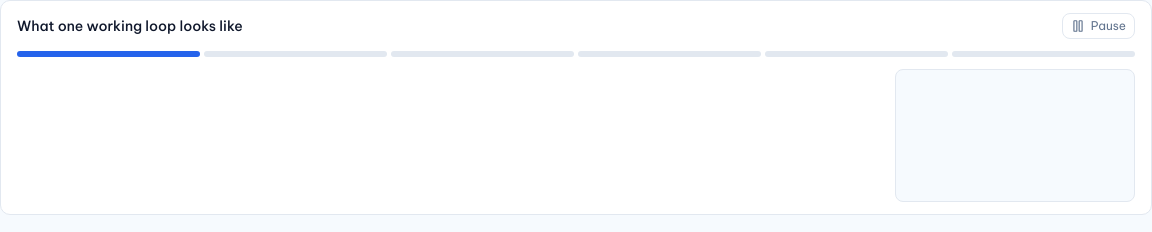
ResearchFlowAnimation › jumps straight to a stage by button, and that stops autoplay
This screenshot has width=1152, height=232.
Click the button named "Stage 5: Five judges push back" at (856, 54), box 765,51 -> 948,57
Wait 8000 ms
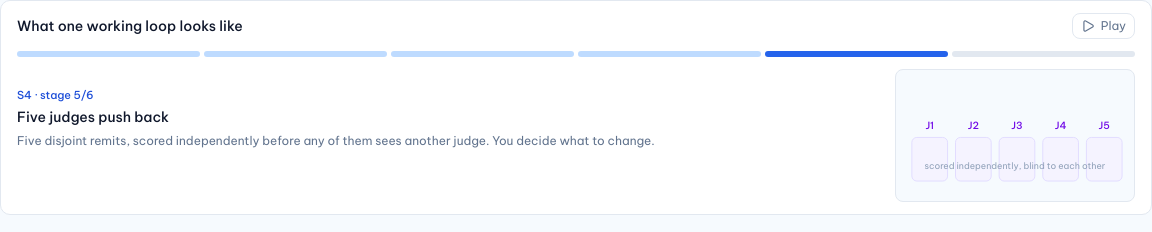
Check: the text "Five judges push back" is shown, box 17,108 -> 169,126
